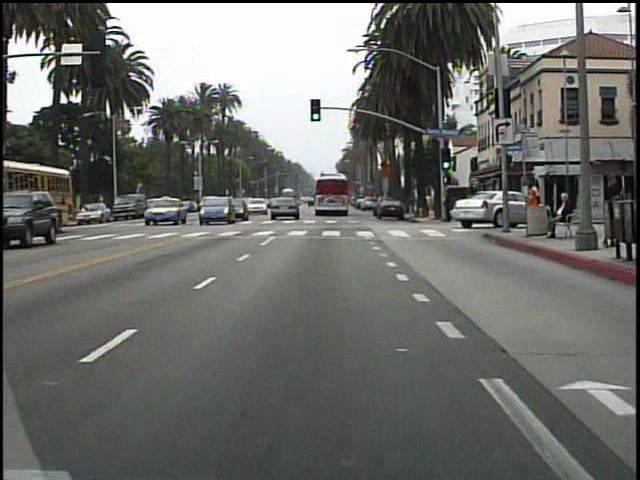person: (597, 172, 626, 251), (545, 186, 572, 240), (523, 178, 542, 236), (443, 187, 454, 225)
